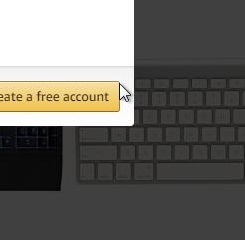cursor: (117, 80, 132, 104)
